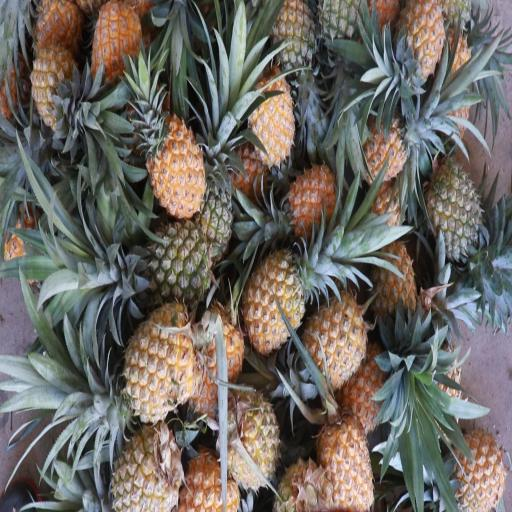------------------------------: (270, 0, 324, 89)
Pineapple - v8 v1: (122, 294, 199, 426), (301, 261, 375, 375), (240, 228, 311, 339), (144, 105, 208, 220), (217, 385, 280, 499), (187, 293, 246, 412), (315, 396, 375, 512), (111, 421, 184, 512), (243, 40, 295, 162), (85, 0, 145, 96), (22, 37, 81, 134), (279, 150, 344, 238), (172, 433, 244, 512), (364, 220, 422, 314), (350, 88, 403, 186), (448, 418, 503, 512), (393, 0, 451, 85)
